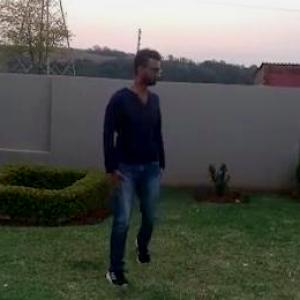follow: (97, 42, 166, 288)
